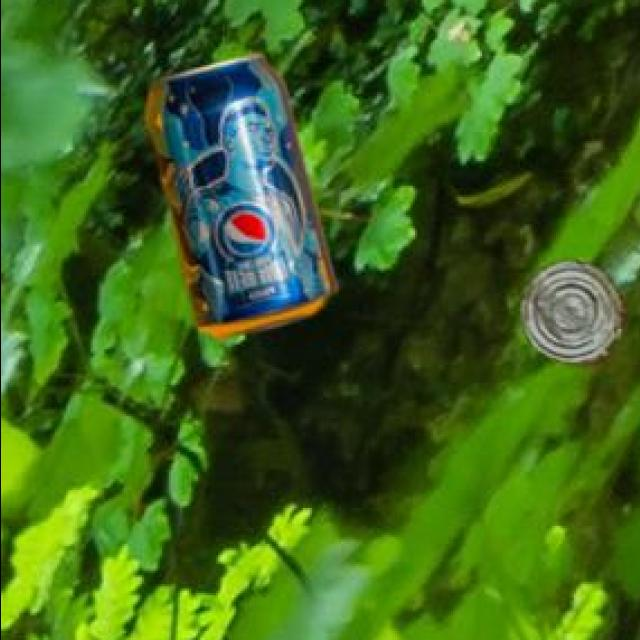logam: (142, 53, 332, 335), (516, 258, 621, 361)
